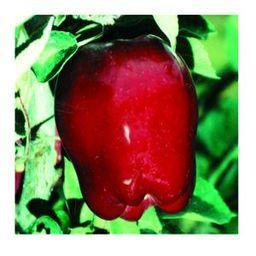apple: (53, 39, 197, 219)
